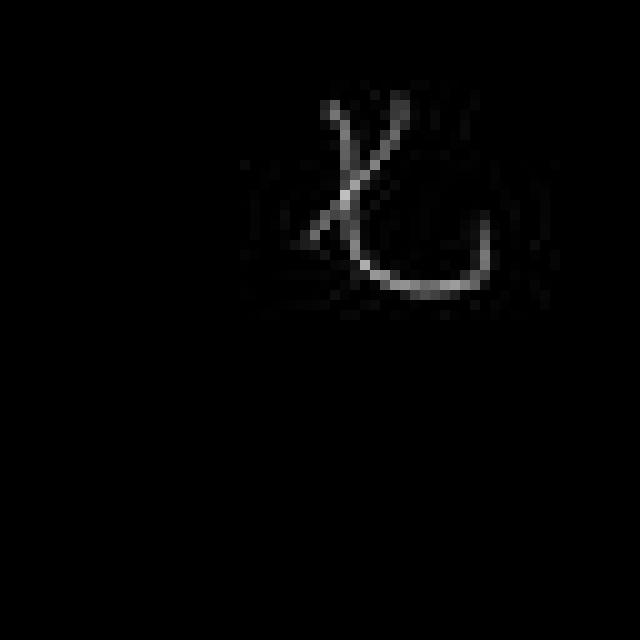7 -seven-: (286, 90, 503, 306)
